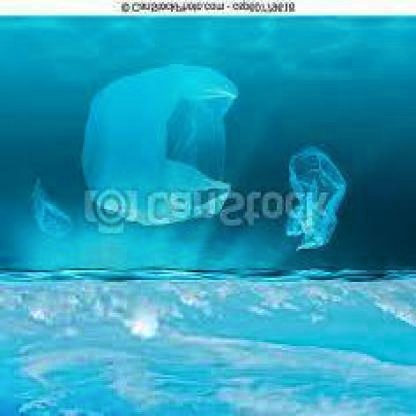pbag: (79, 54, 247, 230), (280, 142, 349, 257), (25, 177, 76, 247)
